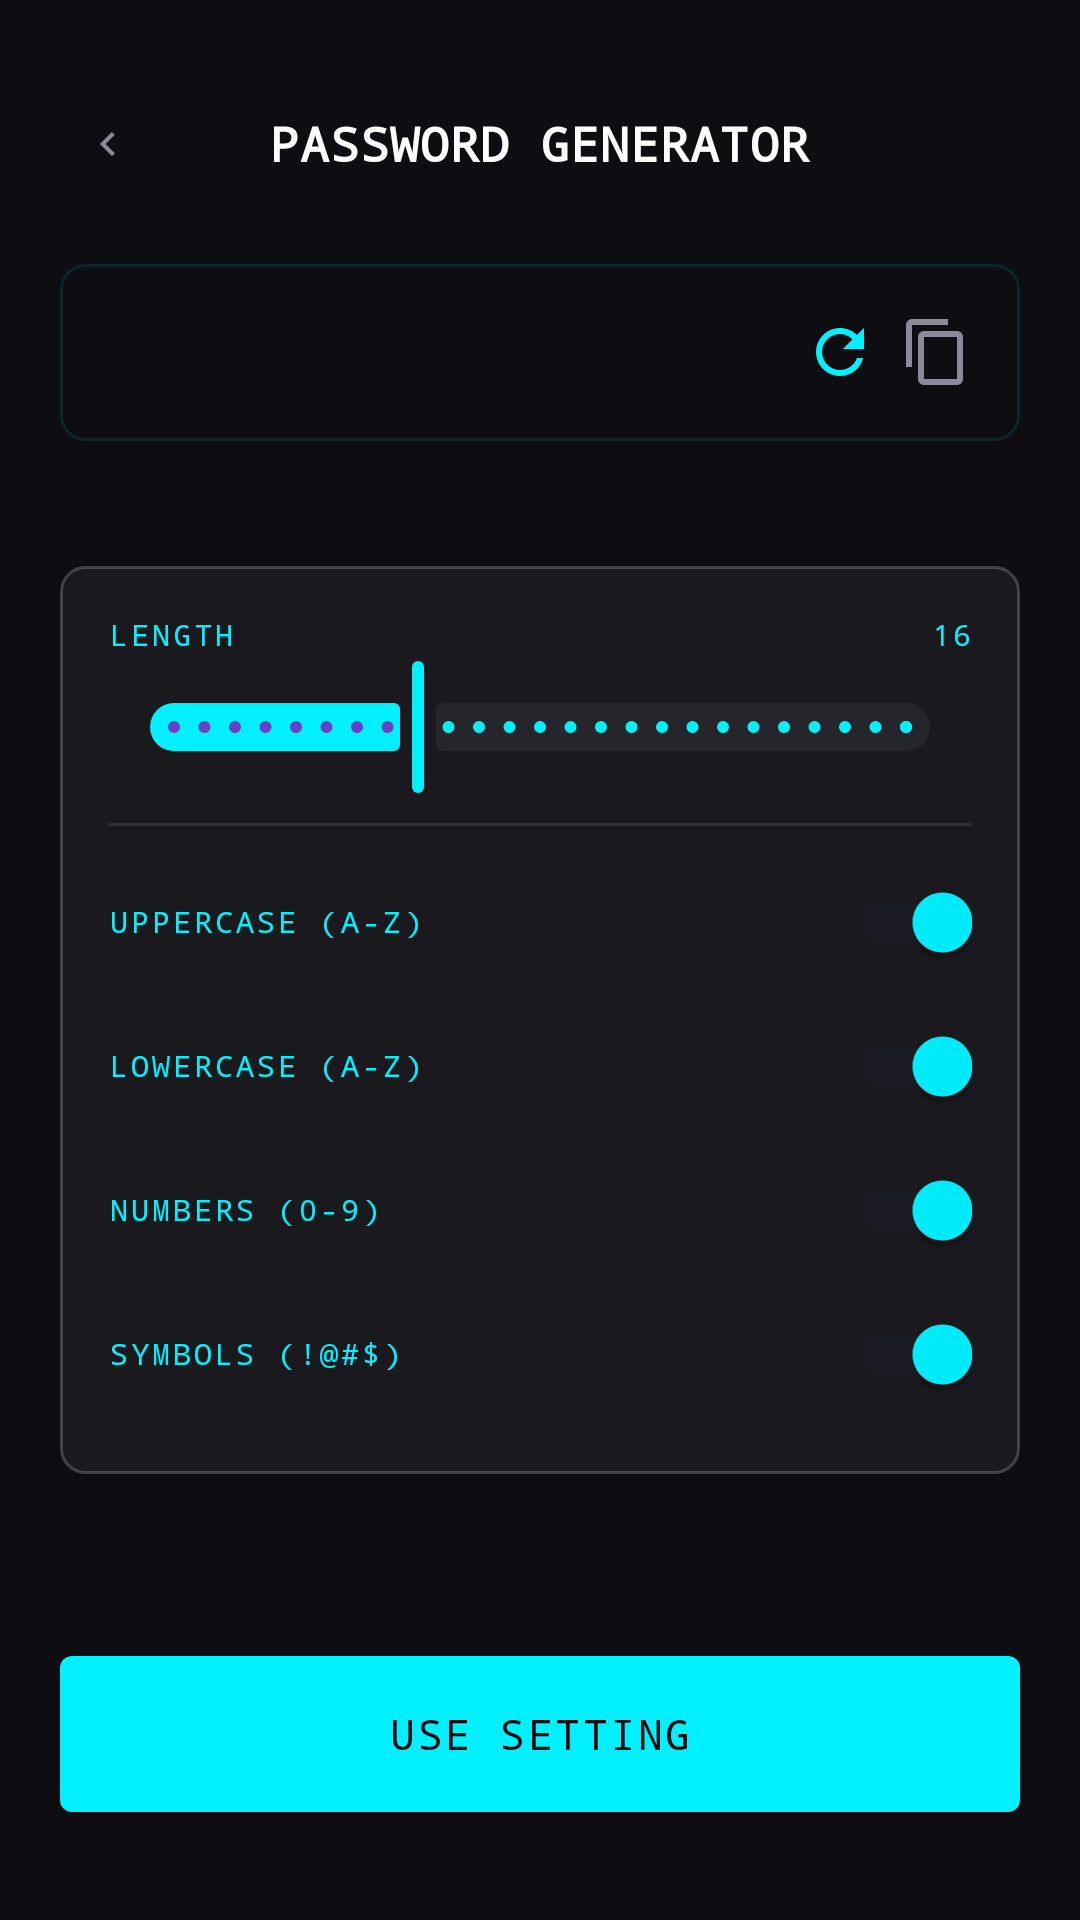

Icons on this 1080 × 1920 Android screen, each with its box as (x1, y1, x2, y2):
refresh: (816, 328, 864, 376)
